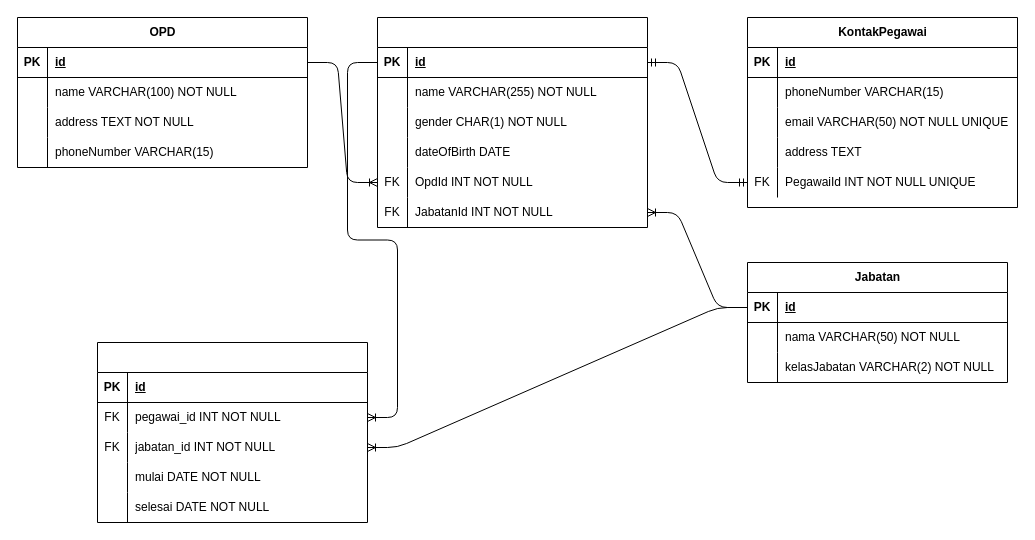
Some shapes in this 1035 by 540 pixel diagram are drawn without their labels. The shapes that lost their labels are listed below. From the top down, each one's box as (x1, y1, x2, y2) in pixels, then its label:
(376, 16, 648, 228): Pegawai
(96, 342, 368, 522): RiwayatJabatan
